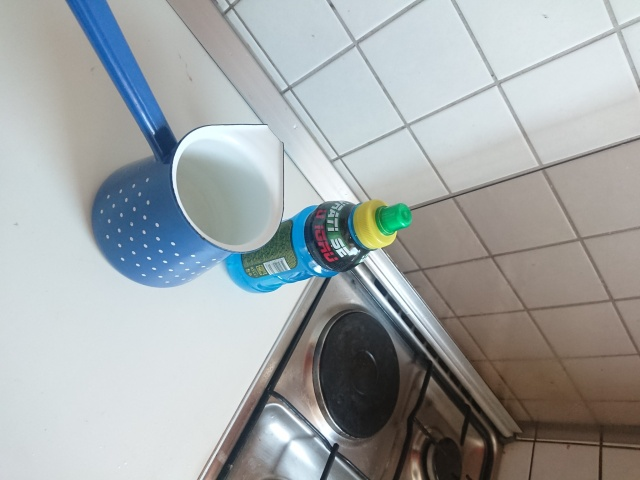Vindi Iso Sport Forest Strawberries 500mL: (222, 197, 413, 294)
